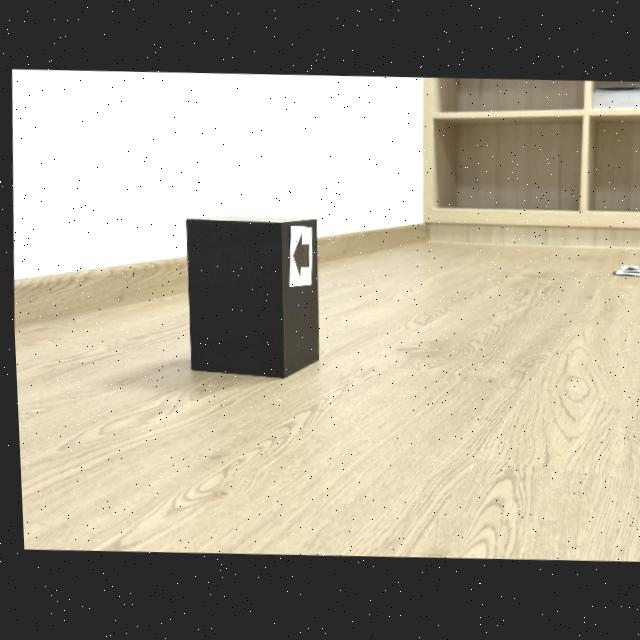LEFT: (290, 237, 307, 276)
